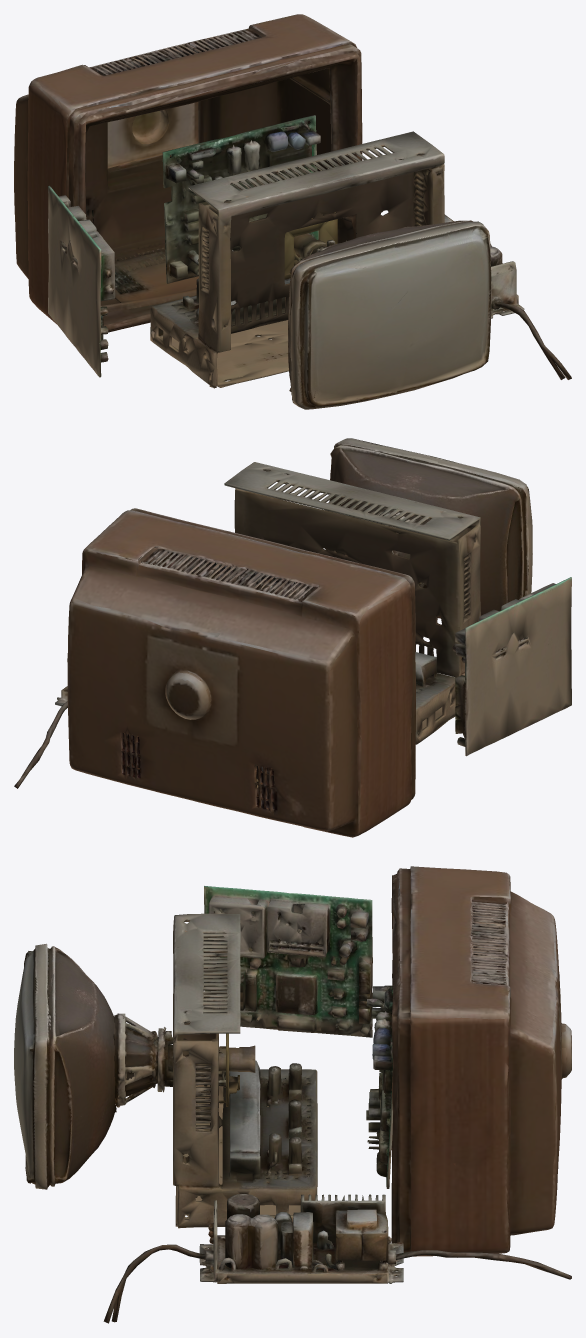
3 views of the same model, one above another, from view 1: azimuth 30°, elevation 25°; view 2: azimuth 150°, elevation 25°; view 3: azimuth 270°, elevation 25° (orthographic). The views are drawn at different scales.
Visible parts, largest first — view 1: TV_CABINET, SCREEN CASING (GOES SECOND), SCREEN, MOTHERBOARD (GOES FIRST), SOUND BOARD (GOES IN ON THE LEFT OF THE SCREEN CASING, PSU, CRT TUBE; view 2: TV_CABINET, SCREEN CASING (GOES SECOND), SOUND BOARD (GOES IN ON THE LEFT OF THE SCREEN CASING, SCREEN, PSU; view 3: TV_CABINET, SCREEN CASING (GOES SECOND), SCREEN, SOUND BOARD (GOES IN ON THE LEFT OF THE SCREEN CASING, PSU, CRT TUBE, MOTHERBOARD (GOES FIRST).
Boxes of the visible parts, x1=… form: TV_CABINET: x1=14, y1=14, x2=362, y2=332; SCREEN CASING (GOES SECOND): x1=150, y1=131, x2=444, y2=388; SCREEN: x1=288, y1=220, x2=491, y2=409; MOTHERBOARD (GOES FIRST): x1=162, y1=115, x2=320, y2=283; SOUND BOARD (GOES IN ON THE LEFT OF THE SCREEN CASING: x1=48, y1=185, x2=115, y2=377; PSU: x1=381, y1=214, x2=571, y2=379; CRT TUBE: x1=284, y1=212, x2=346, y2=278; TV_CABINET: x1=67, y1=508, x2=415, y2=837; SCREEN CASING (GOES SECOND): x1=224, y1=462, x2=480, y2=744; SOUND BOARD (GOES IN ON THE LEFT OF THE SCREEN CASING: x1=452, y1=577, x2=571, y2=756; SCREEN: x1=329, y1=438, x2=532, y2=618; PSU: x1=14, y1=658, x2=67, y2=788; TV_CABINET: x1=391, y1=866, x2=571, y2=1256; SCREEN CASING (GOES SECOND): x1=173, y1=913, x2=317, y2=1228; SCREEN: x1=14, y1=943, x2=116, y2=1189; SOUND BOARD (GOES IN ON THE LEFT OF THE SCREEN CASING: x1=204, y1=886, x2=372, y2=1037; PSU: x1=103, y1=1194, x2=571, y2=1323; CRT TUBE: x1=114, y1=1013, x2=255, y2=1107; MOTHERBOARD (GOES FIRST): x1=366, y1=985, x2=392, y2=1188.
Size of the model in its own units: 7.24 by 4.15 by 7.62.
14 materials, 14 textured.
